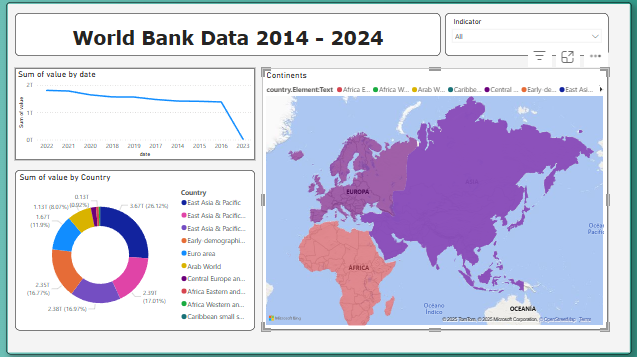

The page's visual inventory and layout, read from the dashboard file:
{"tool":"powerbi","page":{"name":"Página 1","canvas":[1280,720],"ordinal":0},"visuals":[{"type":"shape","box":[15,6.7,1251.7,705],"z":0},{"type":"textbox","box":[33.9,27.8,851.3,86.4],"z":1000},{"type":"slicer","fields":{"Values":["World Bank Data.indicator.Element:Text"]},"box":[894.5,27.8,326.9,86.4],"z":2000},{"type":"filledMap","fields":{"Category":["World Bank Data.country.Element:Text"]},"box":[529,138.8,692.4,524.3],"z":3000},{"type":"lineChart","fields":{"Category":["World Bank Data.date"],"Y":["Sum(World Bank Data.value)"]},"box":[33.9,138.8,479.6,183.5],"z":4000},{"type":"donutChart","fields":{"Category":["World Bank Data.country.Element:Text"],"Y":["Sum(World Bank Data.value)"]},"box":[33.9,342.4,479.6,320.8],"z":5000}]}

Visuals, with their boxes in screenshot pixels (x1, y1, x2, y2), scaled from the page's 1280x720 canvas onto the 637x357 screenshot:
shape: {"left": 7, "top": 3, "right": 630, "bottom": 353}
textbox: {"left": 17, "top": 14, "right": 441, "bottom": 57}
slicer - World Bank Data.indicator.Element:Text: {"left": 445, "top": 14, "right": 608, "bottom": 57}
filledMap - World Bank Data.country.Element:Text: {"left": 263, "top": 69, "right": 608, "bottom": 329}
lineChart - World Bank Data.date x Sum(World Bank Data.value): {"left": 17, "top": 69, "right": 256, "bottom": 160}
donutChart - World Bank Data.country.Element:Text x Sum(World Bank Data.value): {"left": 17, "top": 170, "right": 256, "bottom": 329}
